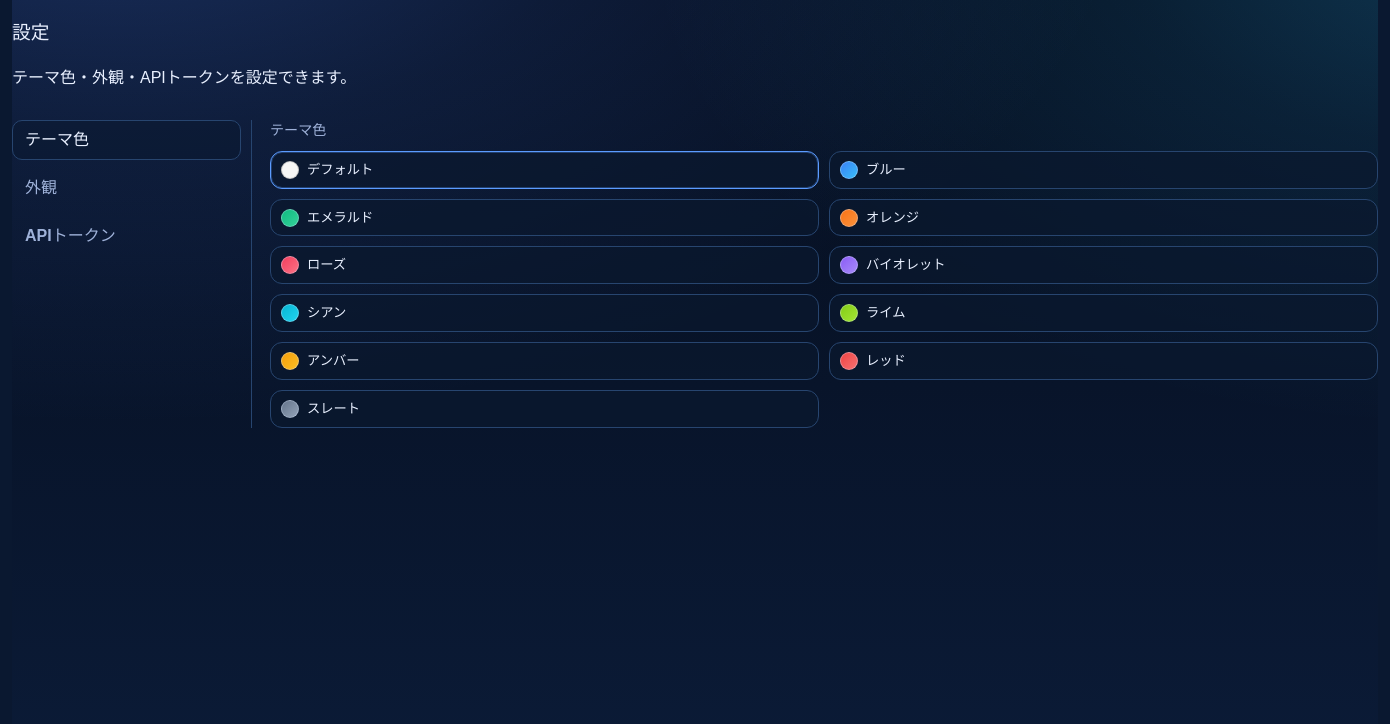
Test: SettingsPanel › does not save bearer token when token is invalid
Click the tab "APIトークン": (126, 236) [12,216,241,257]
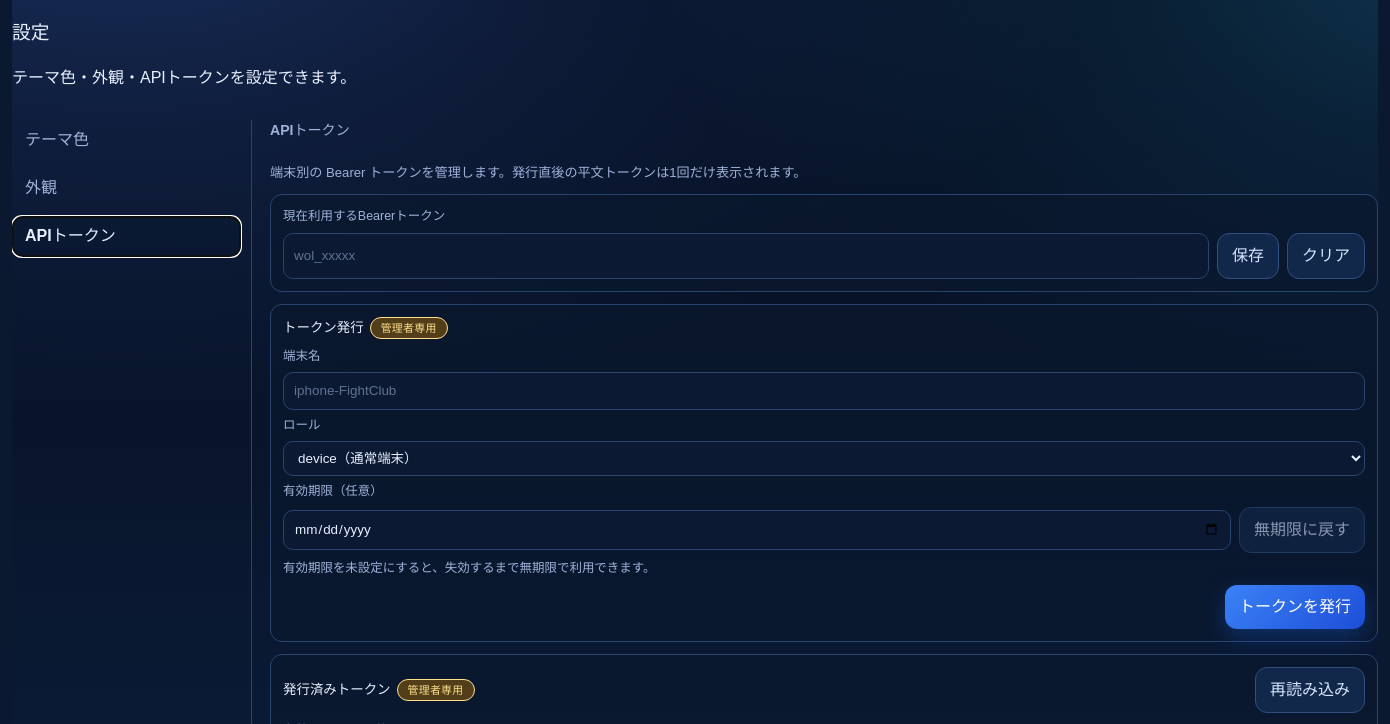
In the password field labelled "現在利用するBearerトークン": (746, 256) [283,233,1209,279], type "wol_invalid_token"
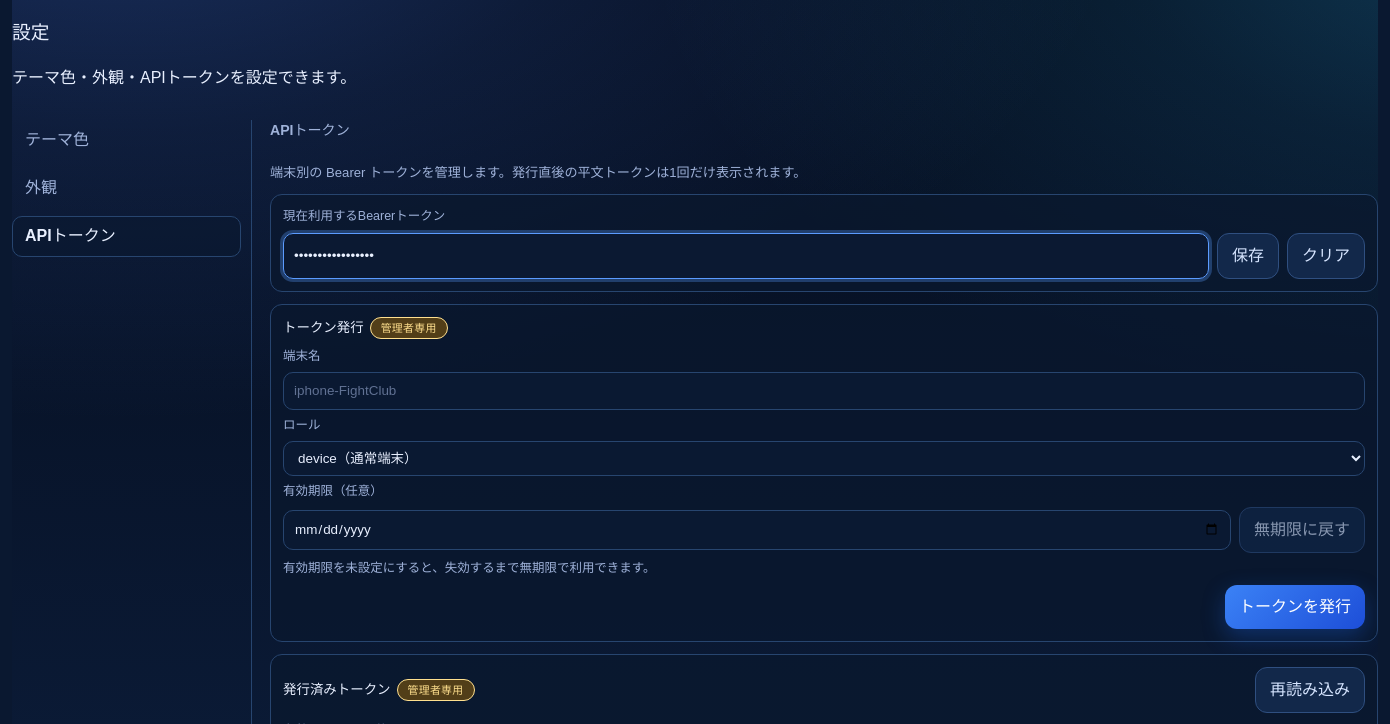
Click the button "保存": (1248, 256) [1217,233,1279,279]
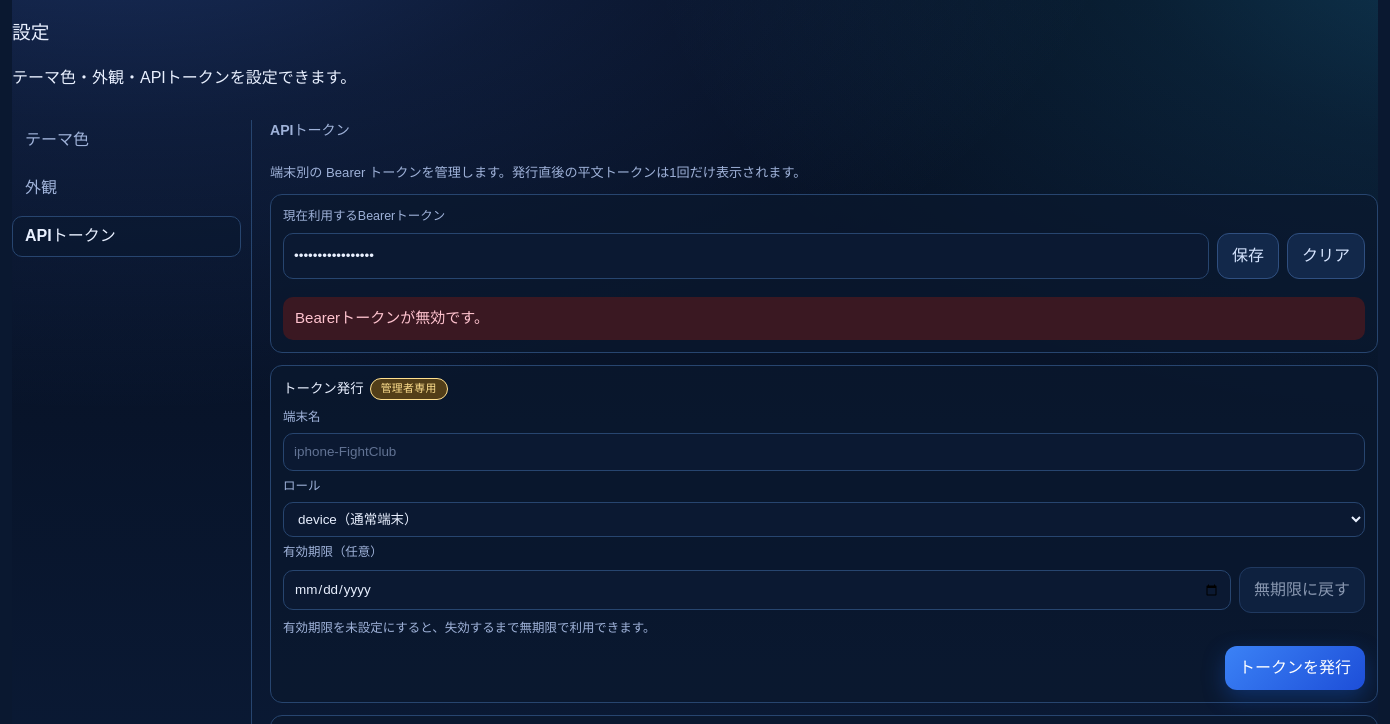
Result: the text "Bearerトークンが無効です。" is shown at [283,297,1365,340]
